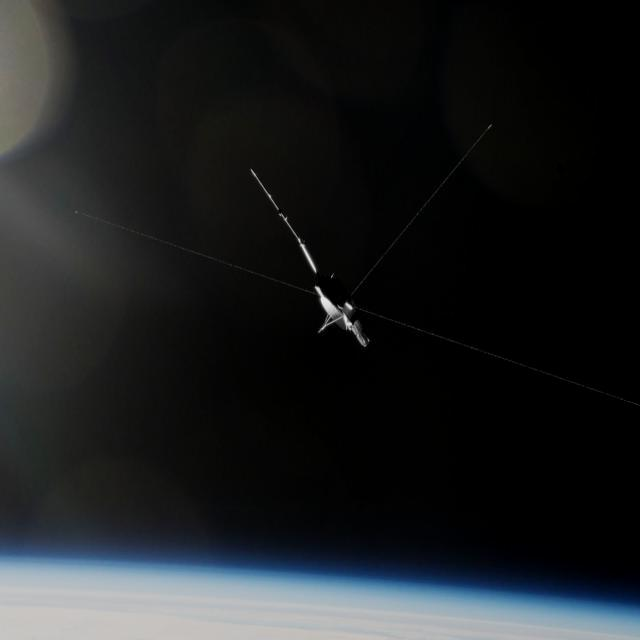satellite: (37, 136, 640, 406)
